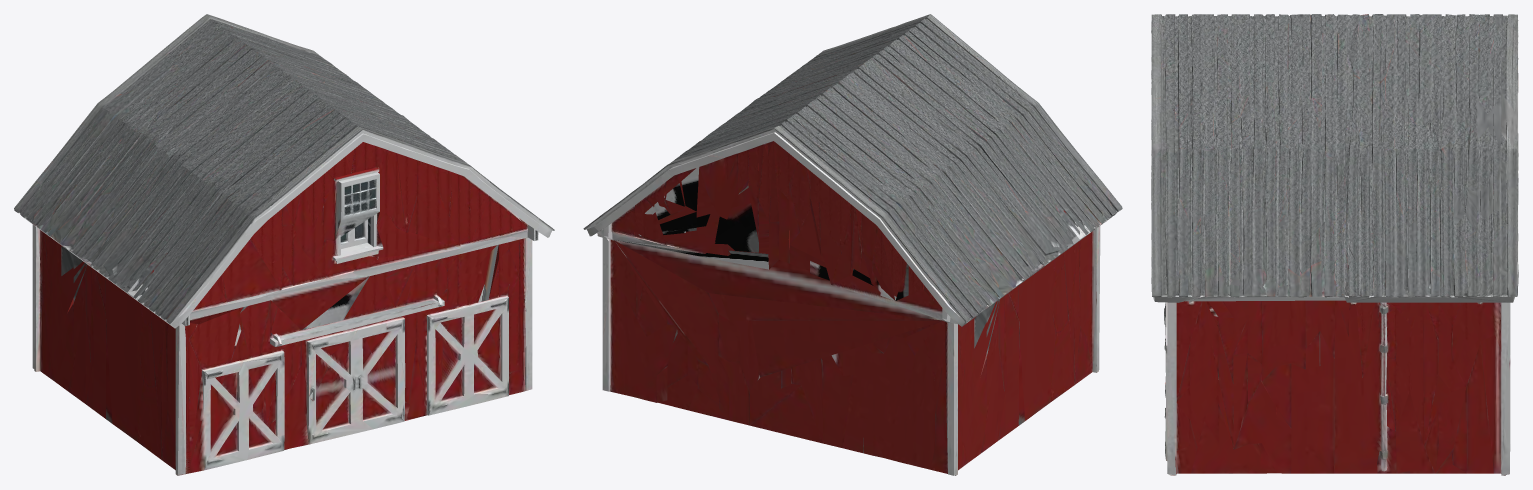
The model's file is barn.glb.
3 renders of one model, left to right at view 1: azimuth 30°, elevation 25°; view 2: azimuth 150°, elevation 25°; view 3: azimuth 270°, elevation 25°, orthographic. The views are drawn at different scales.
Parts seen in each view (by area): view 1: output_unwrapped; view 2: output_unwrapped; view 3: output_unwrapped.
Boxes of the visible parts, x1,y1,x2,y2 form: output_unwrapped: [14, 14, 554, 475]; output_unwrapped: [583, 14, 1122, 475]; output_unwrapped: [1151, 14, 1518, 475].
Size of the model in its own units: 1.9 by 1.46 by 1.35.
1 material, 1 textured.
